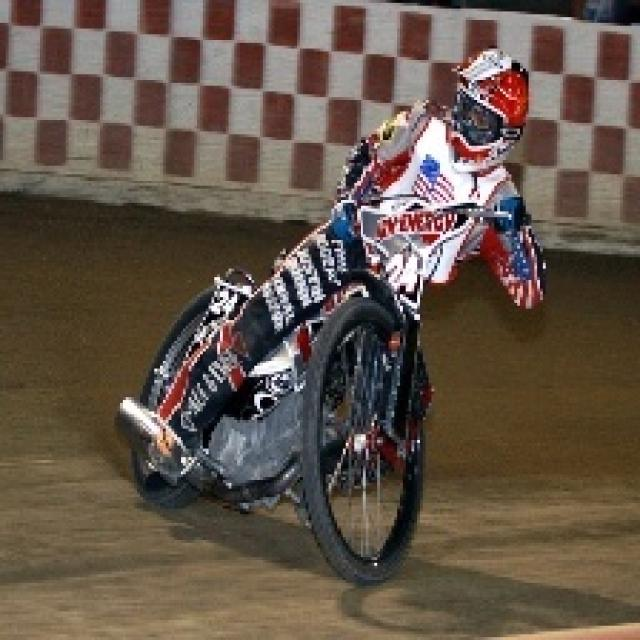motorace: (132, 12, 560, 586)
